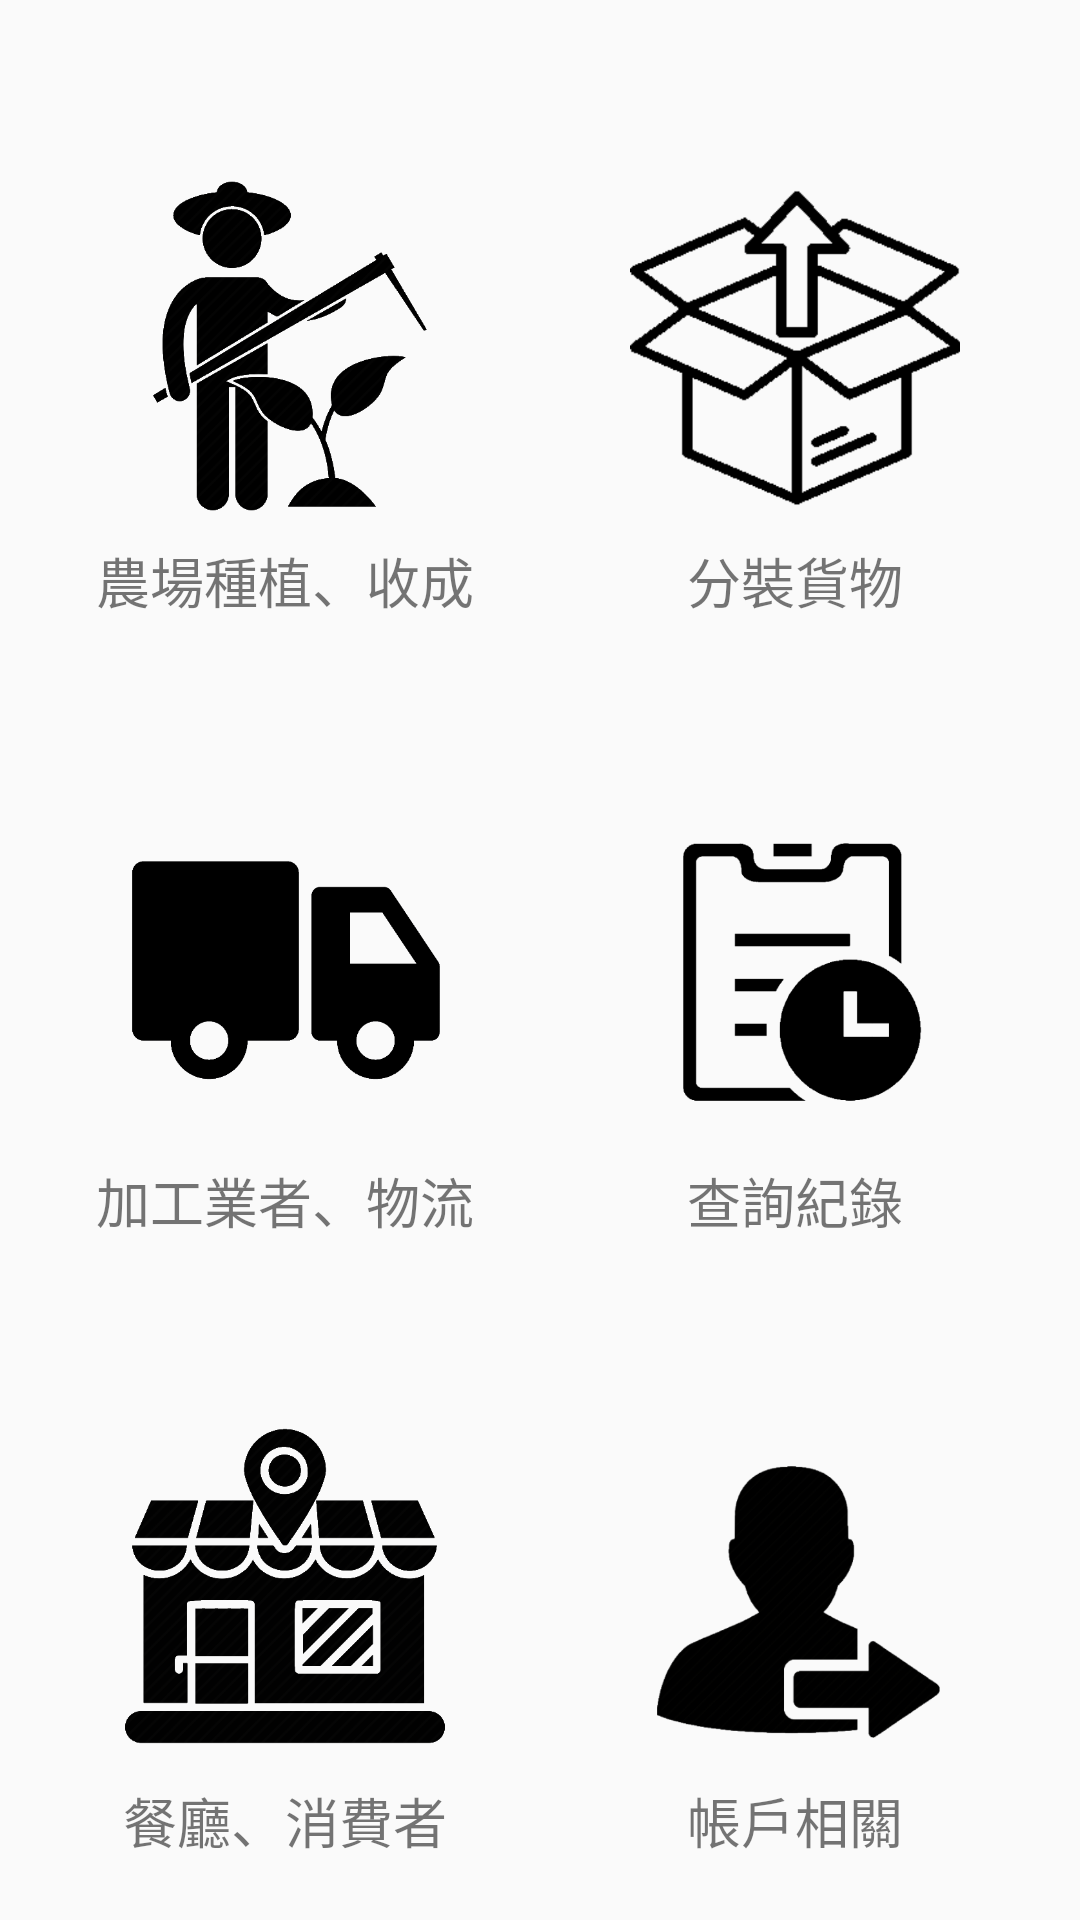

Locate icon controls on the screen. Image size 1080 x 1920, boxes as (x1, y1, x2, y2).
farmer: (153, 181, 427, 511)
